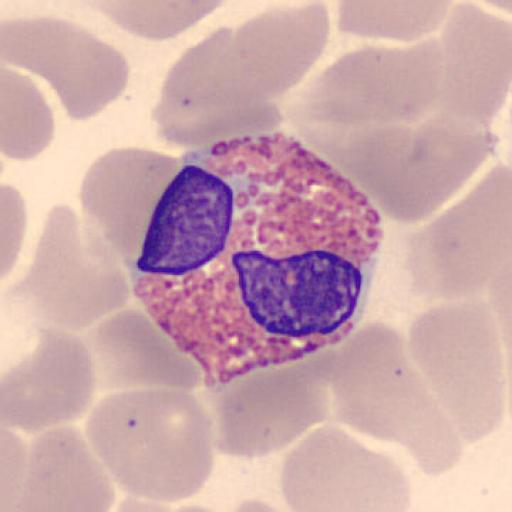RBC: (272, 42, 446, 164), (344, 110, 498, 224), (152, 25, 285, 150), (84, 385, 216, 504), (72, 308, 202, 424), (406, 301, 507, 441), (1, 15, 131, 123), (24, 202, 131, 333), (415, 164, 512, 306), (207, 352, 333, 460), (327, 319, 431, 443), (78, 144, 181, 264), (278, 424, 413, 512), (391, 116, 499, 220), (81, 307, 201, 397), (226, 0, 332, 100), (3, 328, 97, 432), (435, 1, 512, 125), (17, 424, 116, 512), (390, 369, 465, 477), (79, 0, 231, 42), (395, 402, 464, 477), (335, 0, 455, 42), (3, 66, 55, 162), (0, 427, 47, 512), (0, 181, 28, 287), (0, 426, 34, 512), (104, 493, 202, 512), (105, 498, 232, 512), (224, 496, 308, 512), (119, 502, 235, 512), (462, 0, 512, 23), (153, 503, 230, 512)
WBC: (130, 125, 386, 381)
